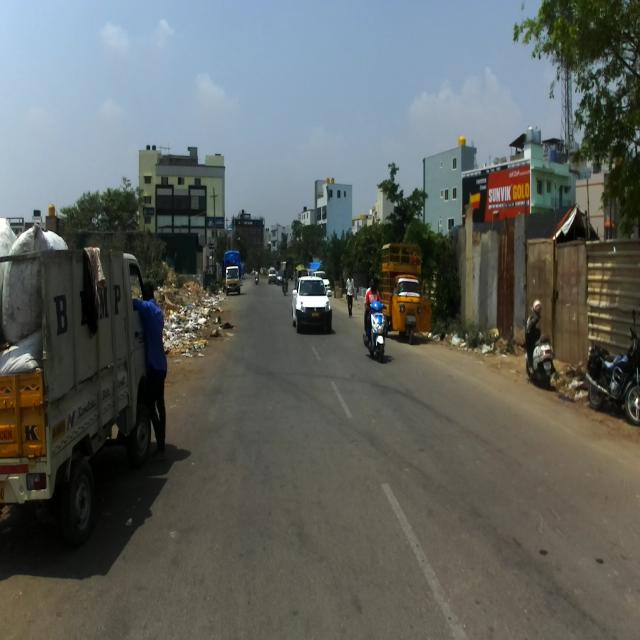car ahead at: (292, 270, 334, 338)
motorcycle ahead at: (585, 322, 640, 412), (520, 297, 558, 382), (362, 298, 391, 365)
truck ahead at: (0, 204, 151, 540)
